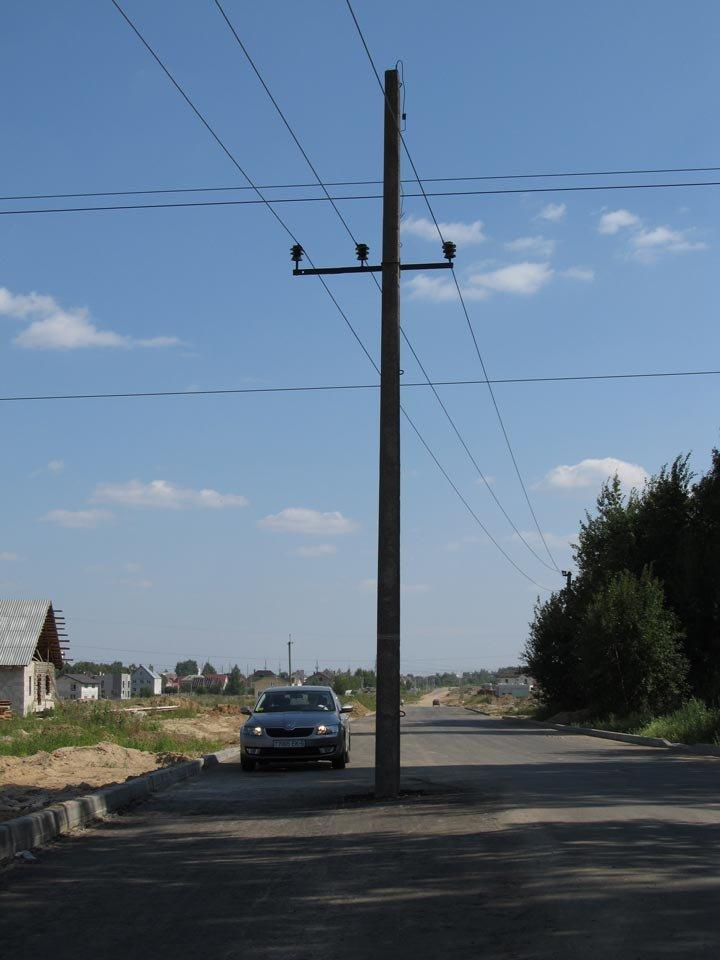Animal: (282, 38, 471, 795)
